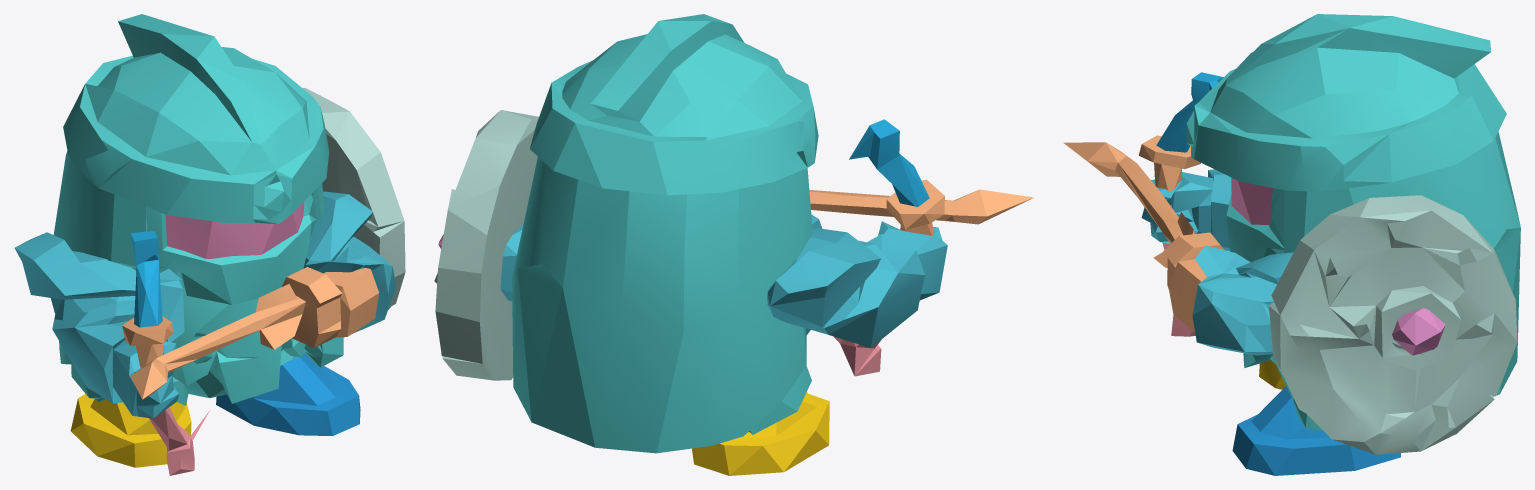
Rendered from Archer_base.fbx.
3 renders of one model, left to right at view 1: azimuth 30°, elevation 25°; view 2: azimuth 150°, elevation 25°; view 3: azimuth 270°, elevation 25°, orthographic. The views are drawn at different scales.
Visible parts, largest first — view 1: root.0, root.2, root.3, root.1, root.4, root.5, root.6, root.7, root.8; view 2: root.0, root.1, root.2, root.5, root.3, root.7, root.8; view 3: root.0, root.1, root.2, root.3, root.4, root.9, root.7, root.6, root.5.
Part boxes in pixels (bbox=[...]): root.0: bbox=[53, 14, 343, 405]; root.2: bbox=[14, 191, 396, 418]; root.3: bbox=[122, 267, 379, 399]; root.1: bbox=[303, 88, 405, 337]; root.4: bbox=[216, 353, 360, 436]; root.5: bbox=[70, 394, 191, 467]; root.6: bbox=[165, 201, 304, 258]; root.7: bbox=[130, 231, 162, 327]; root.8: bbox=[149, 407, 209, 475]; root.0: bbox=[512, 14, 818, 453]; root.1: bbox=[434, 110, 538, 380]; root.2: bbox=[500, 214, 947, 347]; root.5: bbox=[692, 392, 829, 475]; root.3: bbox=[809, 179, 1033, 236]; root.7: bbox=[849, 119, 929, 207]; root.8: bbox=[833, 336, 881, 376]; root.0: bbox=[1186, 14, 1520, 430]; root.1: bbox=[1268, 195, 1517, 454]; root.2: bbox=[1141, 169, 1293, 355]; root.3: bbox=[1063, 135, 1223, 331]; root.4: bbox=[1232, 386, 1400, 475]; root.9: bbox=[1392, 308, 1445, 355]; root.7: bbox=[1156, 72, 1223, 152]; root.6: bbox=[1231, 177, 1273, 224]; root.5: bbox=[1259, 360, 1285, 389].
Bounding box in the file's own units: 171 × 161 × 171.
